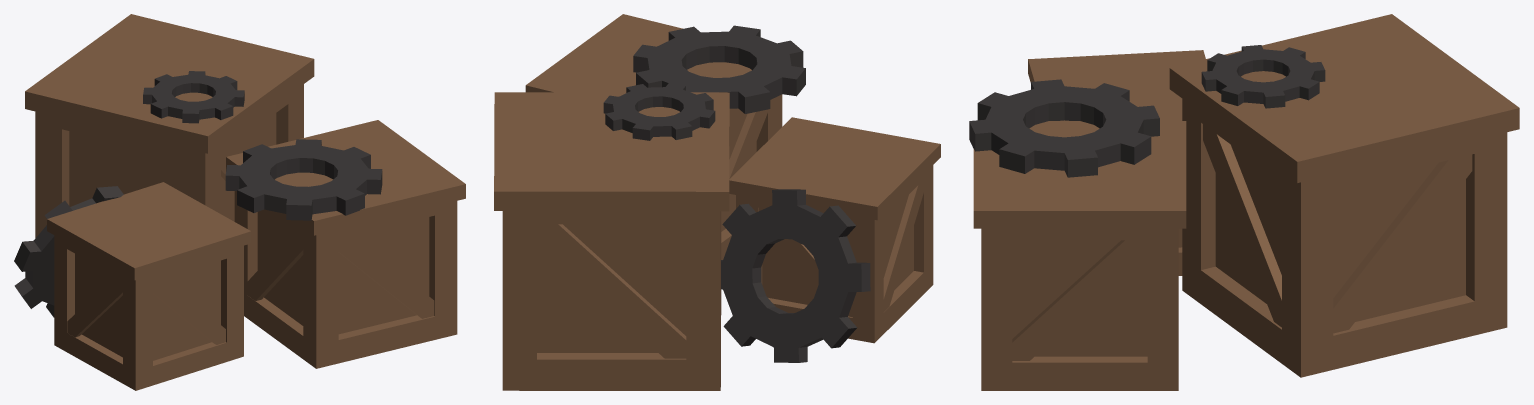
The model's file is mesh_item_objectif.fbx.
The picture shows the model from 3 angles, left to right: view 1: azimuth 30°, elevation 25°; view 2: azimuth 150°, elevation 25°; view 3: azimuth 270°, elevation 25°; orthographic projection. The views are drawn at different scales.
Visible parts, largest first — view 1: mesh_objectif; view 2: mesh_objectif; view 3: mesh_objectif.
Part boxes in pixels (<box>): mesh_objectif: <box>14,14,465,390</box>; mesh_objectif: <box>494,14,940,390</box>; mesh_objectif: <box>969,14,1519,390</box>.
Bounding box in the file's own units: 84.99 × 48.33 × 100.
